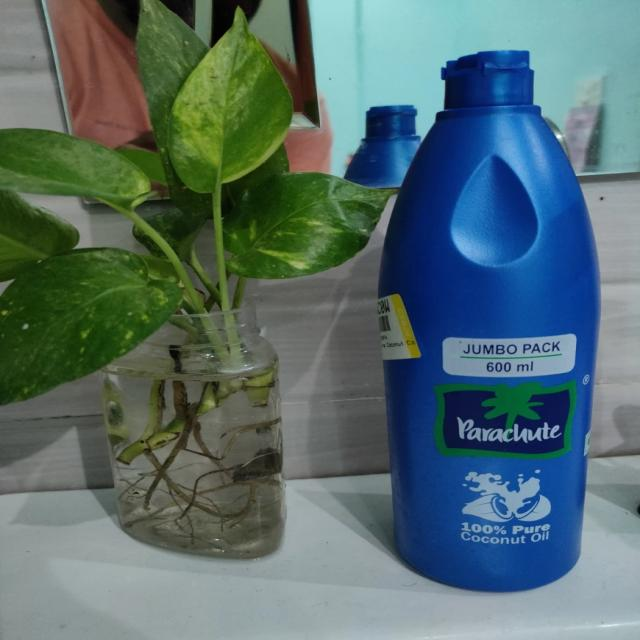parachute_oil: (383, 40, 600, 588)
